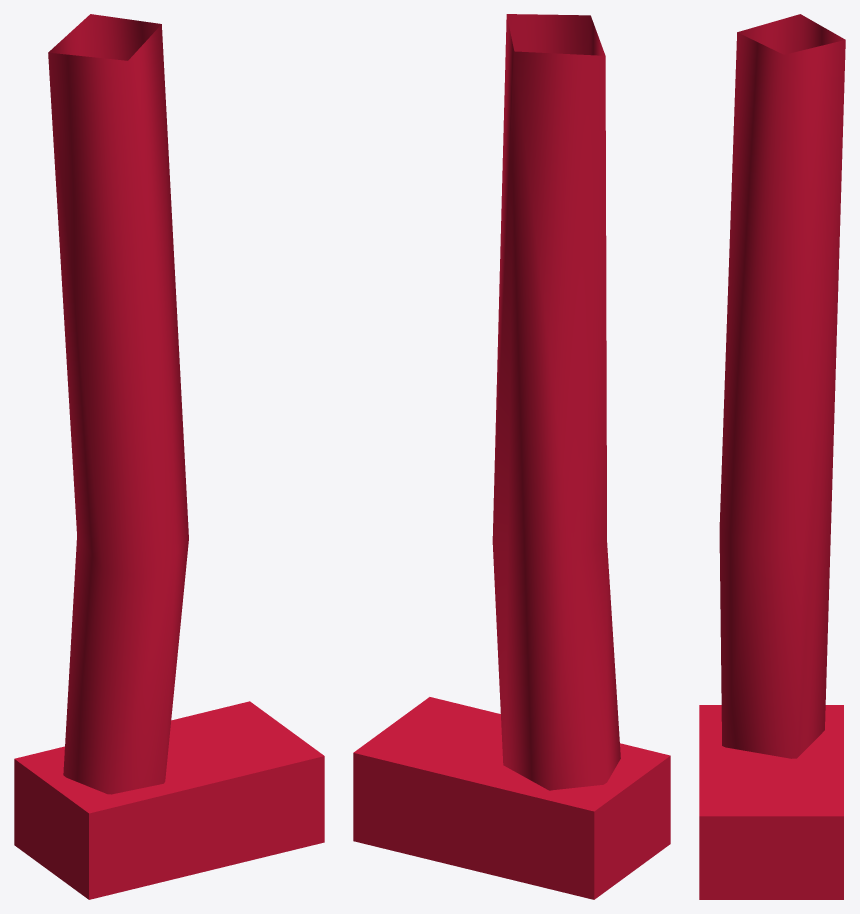
Rendered from r_leg.obj.
3 renders of one model, left to right at view 1: azimuth 30°, elevation 25°; view 2: azimuth 150°, elevation 25°; view 3: azimuth 270°, elevation 25°, orthographic. The views are drawn at different scales.
Parts seen in each view (by area): view 1: r_leg_Cube.004; view 2: r_leg_Cube.004; view 3: r_leg_Cube.004.
Part boxes in pixels (<box>): r_leg_Cube.004: <box>14,14,324,899</box>; r_leg_Cube.004: <box>353,14,670,899</box>; r_leg_Cube.004: <box>699,14,845,899</box>.
Bounding box in the file's own units: 0.6238 × 2.06 × 0.3473.
